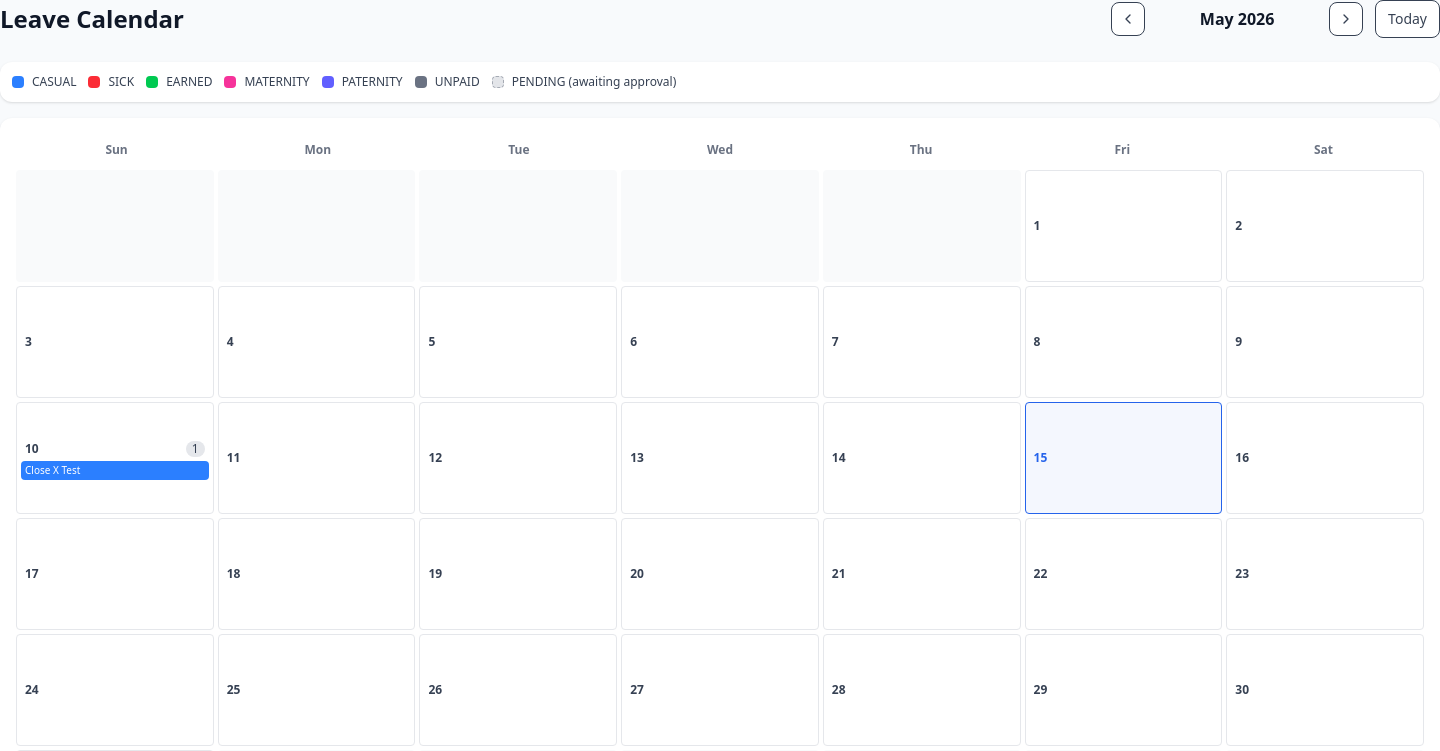
it: LeaveCalendarPage › clicking the × close button closes the modal
Click the button "10 1 Close X Test". click: (115, 458)
box: [16, 402, 214, 514]
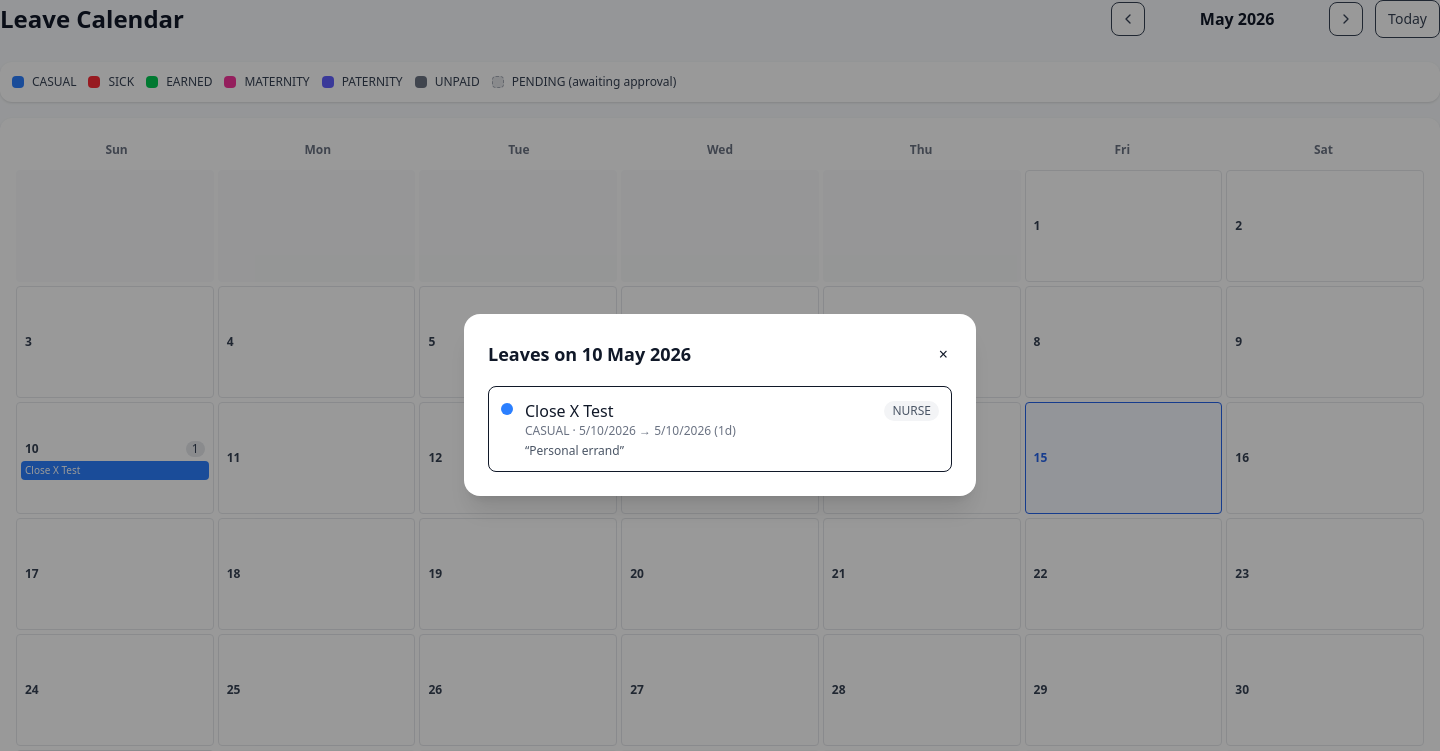
Check: the button is shown
Click the button. click: (943, 354)
box: [935, 338, 952, 370]
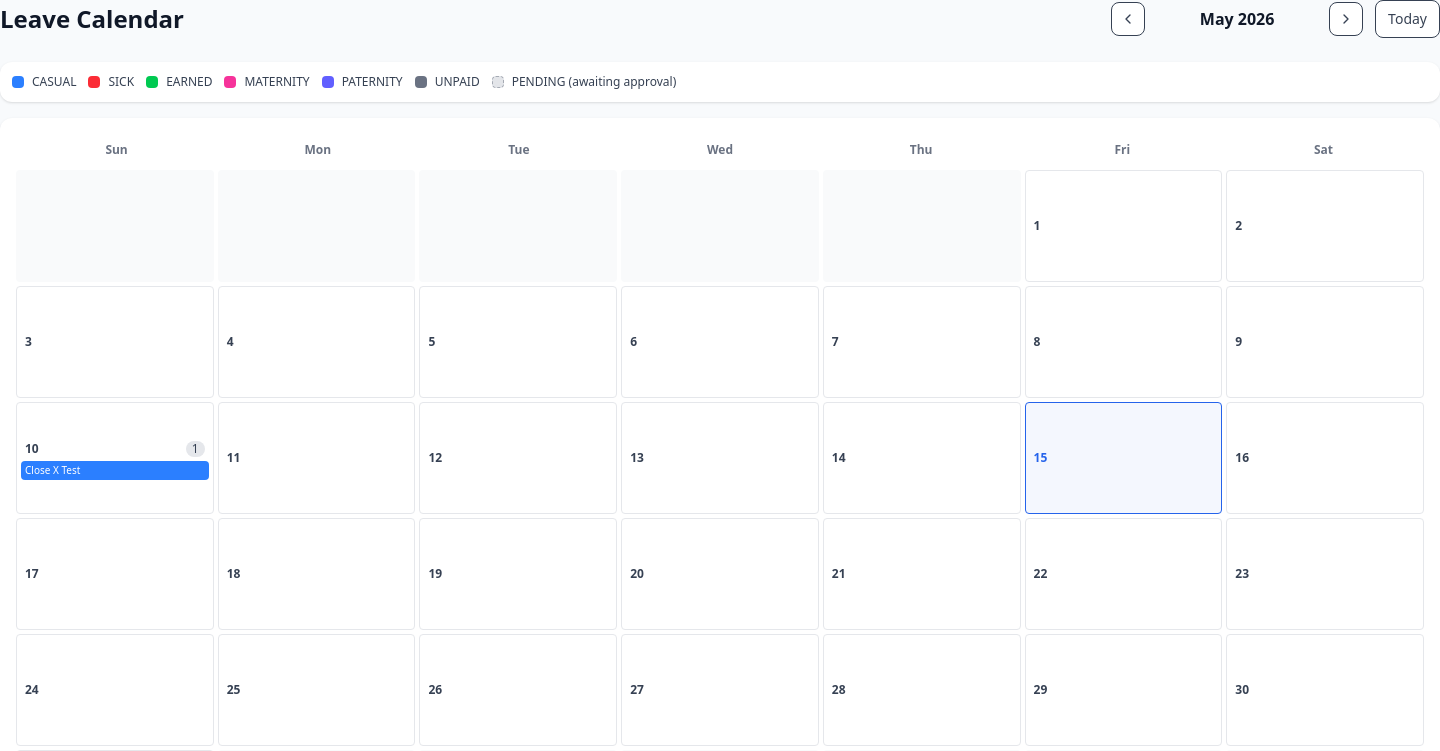
Check: the heading "Leaves on" is gone
